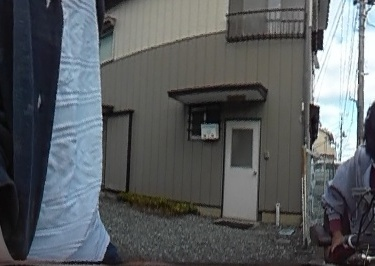person: (332, 95, 375, 251)
